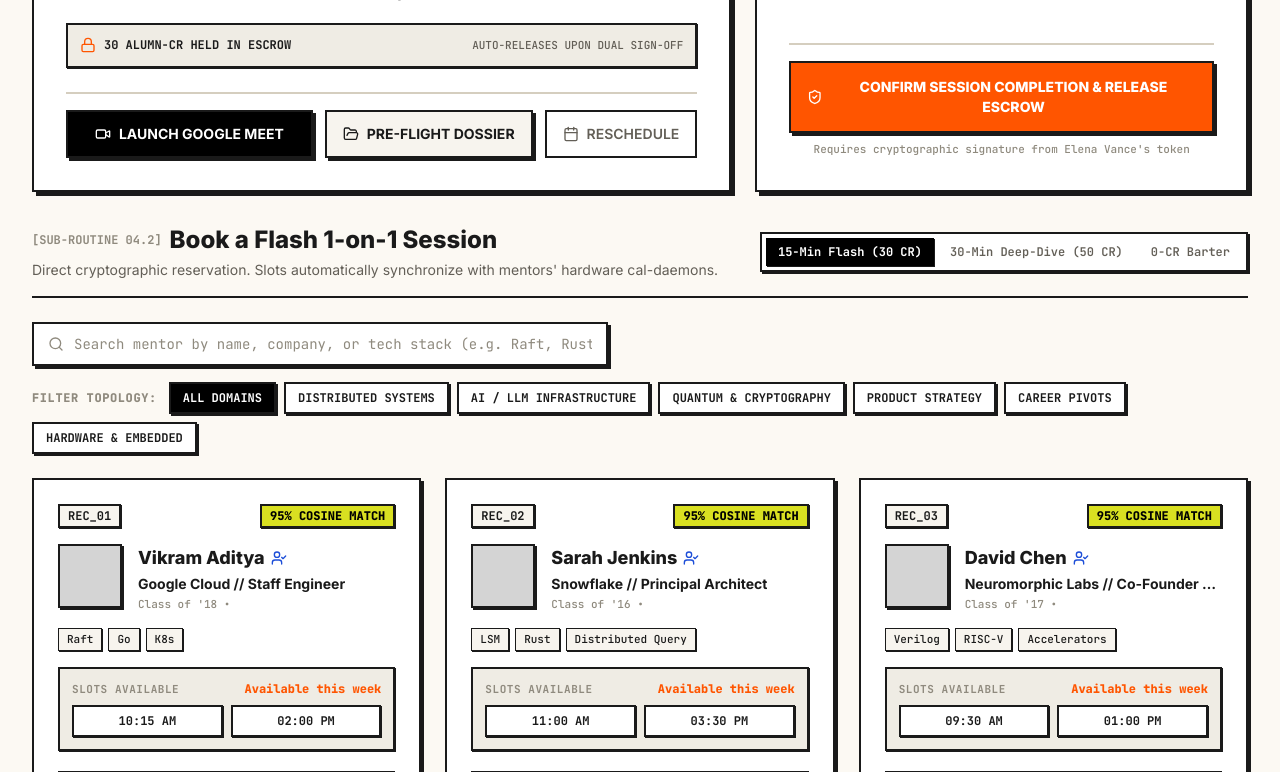
it: MentorshipContent (Stitch Screen 7 Neobrutalist Redesign) › renders Verified Mentor Cards grid and filters by domain and search query
This screenshot has width=1280, height=772.
(page scrolled)
expect the heading "Vikram Aditya" is shown: met, box [138,544,265,572]
expect the heading "Sarah Jenkins" is shown: met, box [551,544,677,572]
# Domain filtering
Click the button "AI / LLM INFRASTRUCTURE".
click(554, 398)  # box [457,382,650,414]
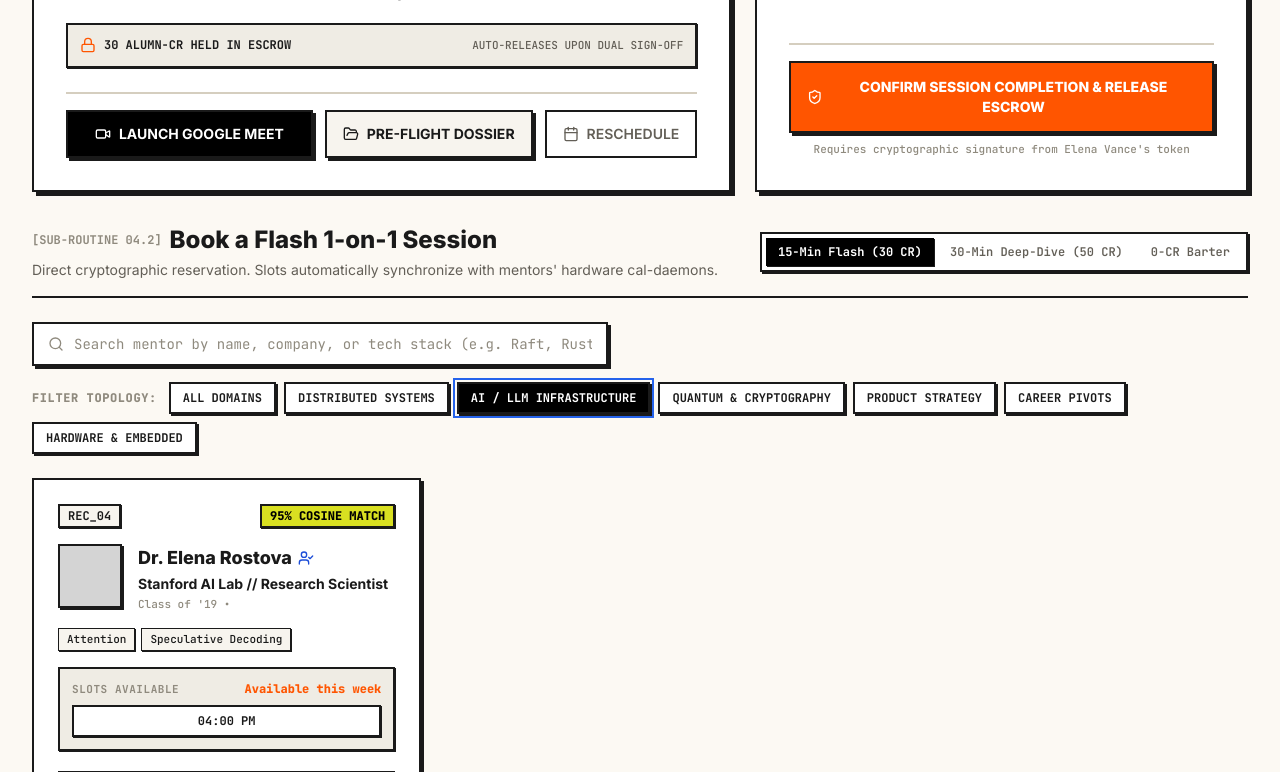
expect the heading "Dr. Elena Rostova" is shown: met, box [138,544,292,572]
expect the heading "Vikram Aditya" is gone: met
# Reset domain filter
Click the button "ALL DOMAINS".
click(222, 398)  # box [169,382,276,414]
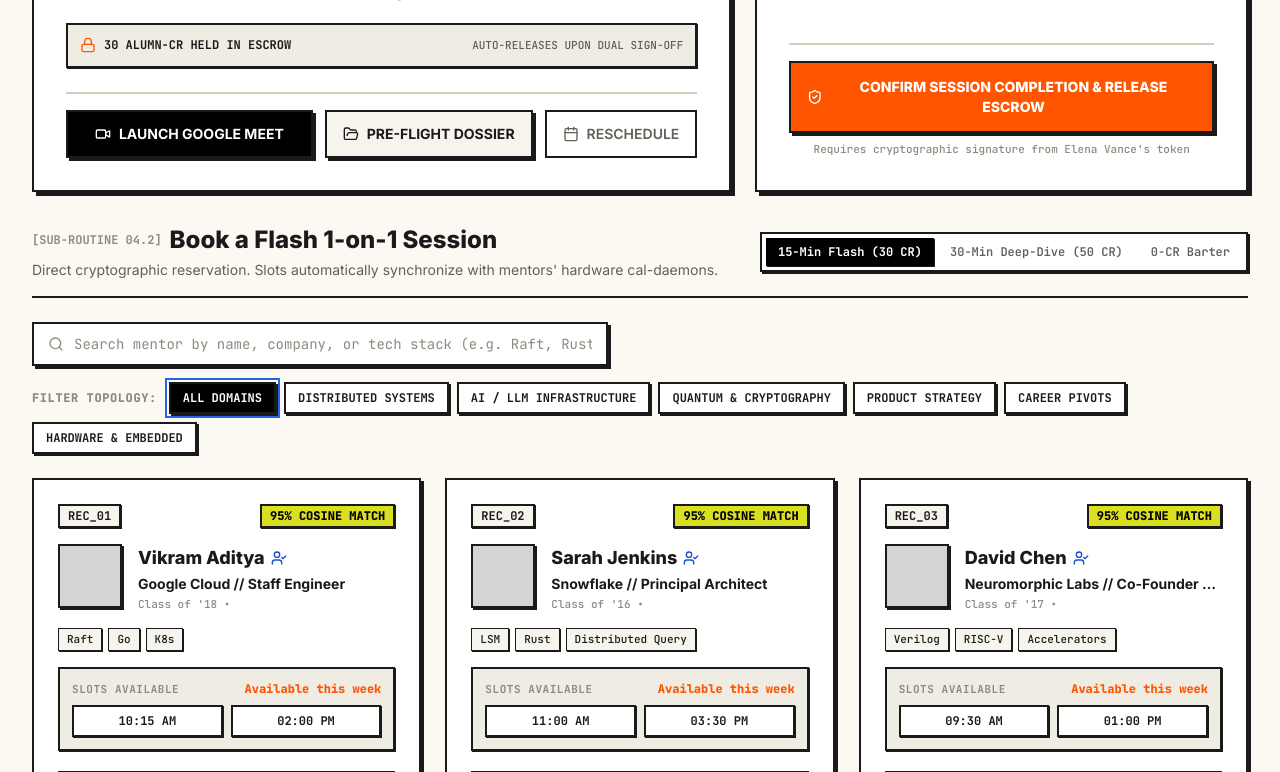
# Search query filtering
Type "Snowflake" into the field with placeholder "Search mentor by name, company, or tech stack".
click(333, 344); type("Snowflake")  # box [74,334,592,354]
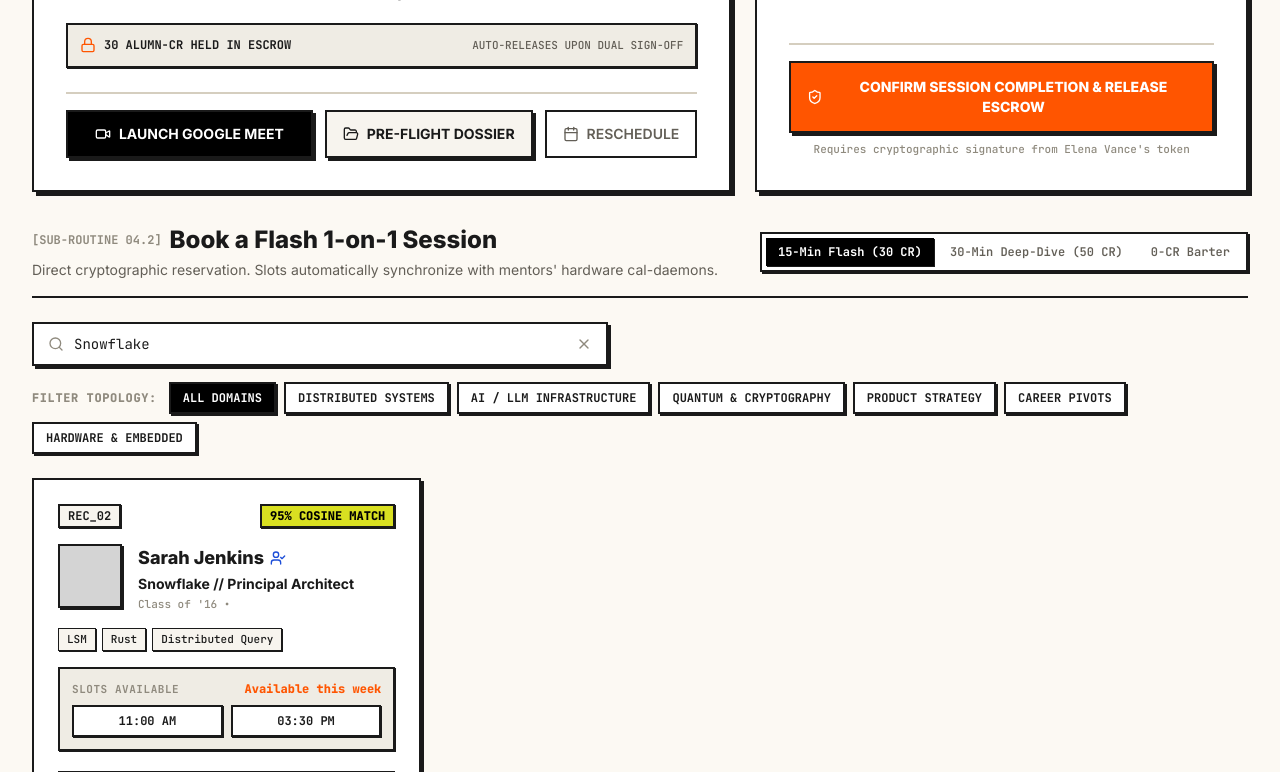
expect the heading "Sarah Jenkins" is shown: met, box [138,544,264,572]
expect the heading "Vikram Aditya" is gone: met
